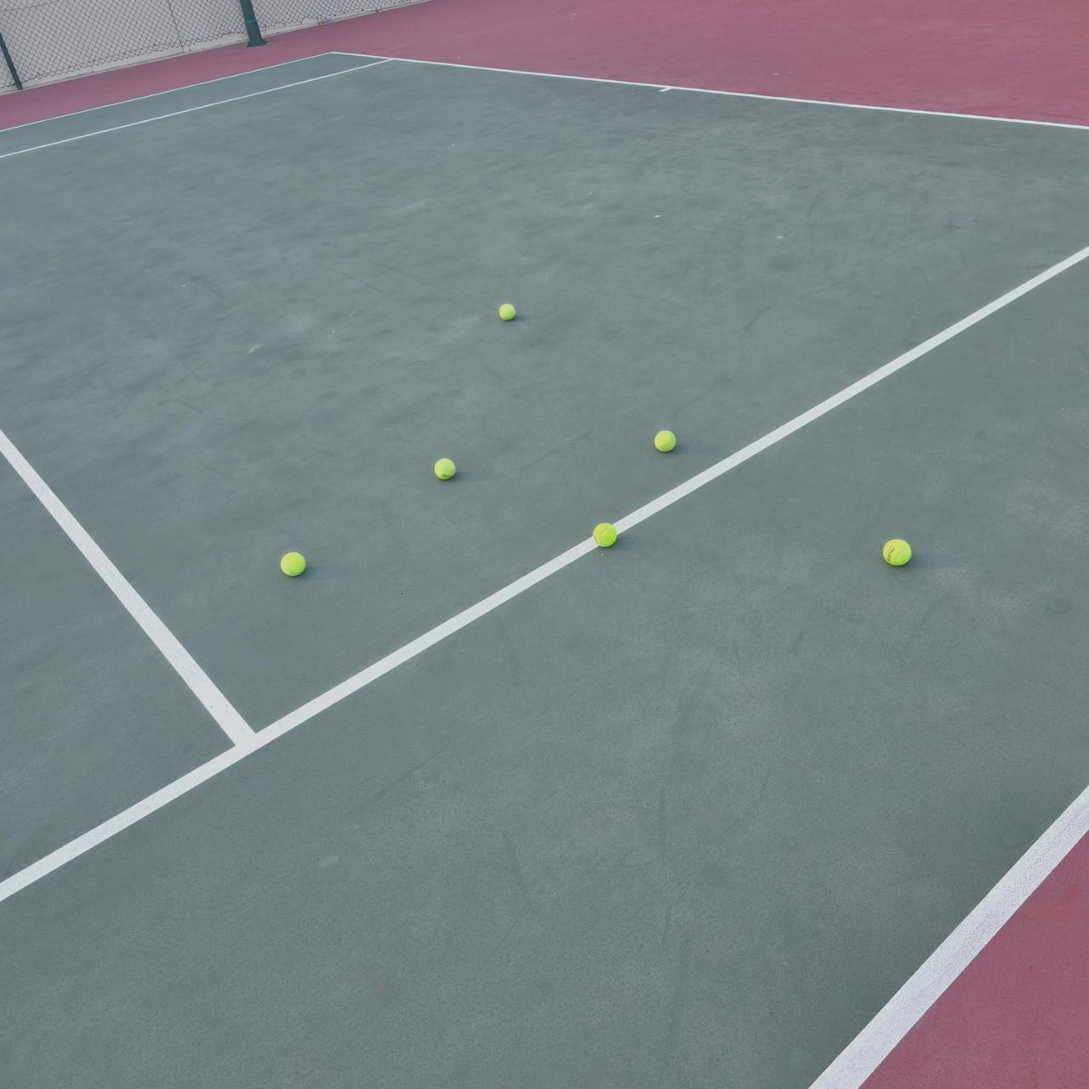tennis-ball: (882, 536, 914, 567), (280, 549, 308, 577), (593, 521, 619, 547), (434, 455, 458, 480), (654, 428, 678, 452), (499, 300, 518, 321)
